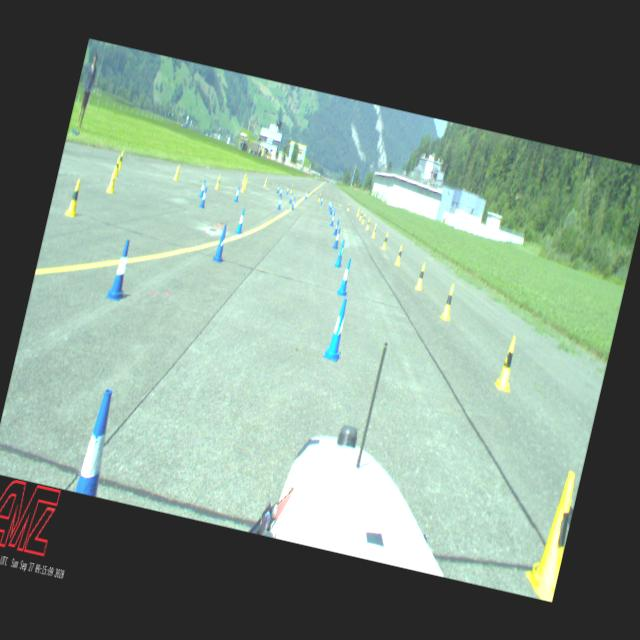blue_cone: (75, 387, 121, 496), (322, 296, 353, 362), (105, 238, 136, 302), (336, 256, 354, 296), (212, 222, 230, 262), (334, 239, 346, 268), (235, 206, 247, 234), (332, 226, 342, 248), (198, 186, 208, 208), (198, 178, 206, 198), (332, 218, 340, 236), (276, 195, 284, 210), (233, 186, 240, 202), (329, 212, 336, 226), (290, 197, 296, 210), (288, 192, 293, 204), (330, 208, 335, 220), (278, 186, 283, 197), (329, 204, 333, 214), (285, 185, 289, 194), (304, 190, 308, 199), (276, 184, 280, 193), (328, 202, 332, 211), (328, 200, 332, 208), (320, 197, 324, 204)
yellow_cone: (520, 466, 581, 601), (493, 333, 522, 392), (64, 178, 84, 216), (439, 282, 458, 321), (414, 262, 427, 291), (106, 165, 119, 192), (111, 155, 122, 177), (394, 243, 404, 266), (117, 150, 125, 169), (381, 232, 389, 250), (173, 163, 181, 180), (214, 174, 222, 189), (370, 224, 378, 238), (365, 217, 371, 230), (240, 180, 246, 192), (361, 212, 366, 224), (243, 176, 248, 188), (242, 173, 246, 184), (358, 210, 362, 220), (290, 184, 294, 193), (318, 193, 322, 202), (264, 177, 268, 186), (346, 203, 350, 211), (356, 208, 360, 216)
